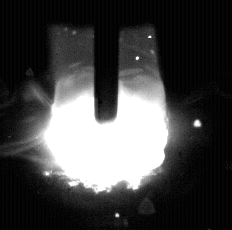arame: (95, 0, 119, 124)
poca: (44, 0, 169, 230)
